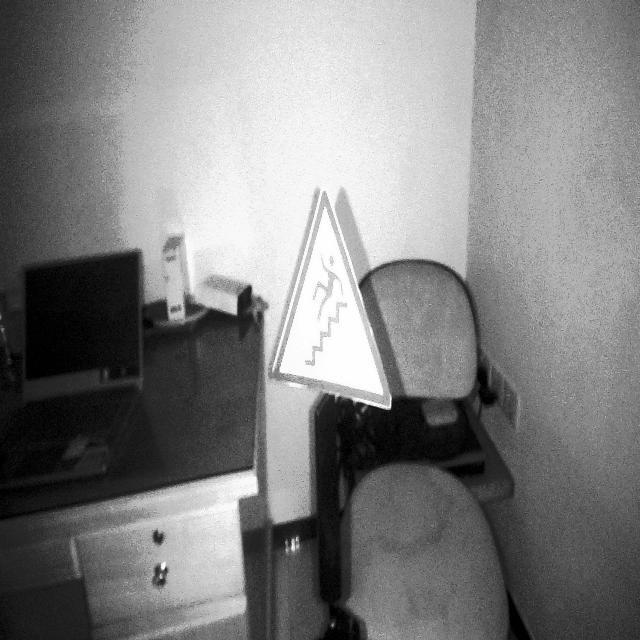Sign: (269, 183, 394, 413)
